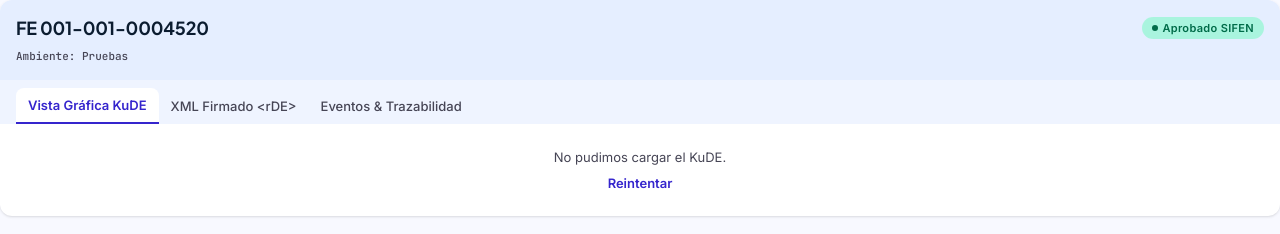
DocumentsDetail tabs › reports a KuDE that could not be loaded and retries
Expected: the text "No pudimos cargar el KuDE." is shown, [554,148,726,166]
Click the button "Reintentar": (640, 183) [608,174,672,192]
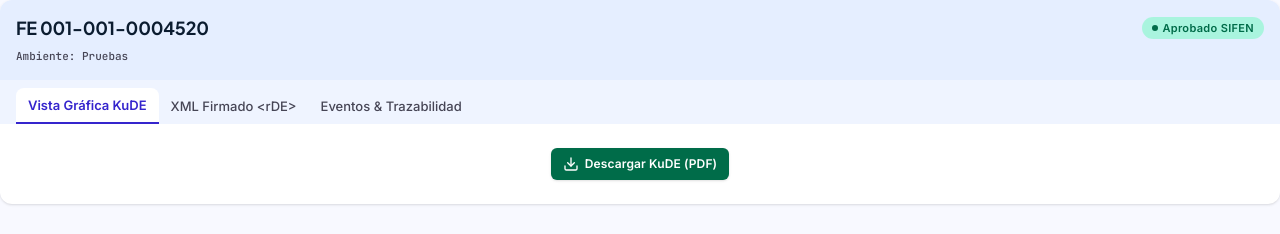
Expected: the link "Descargar KuDE (PDF)" is shown, [551,148,729,180]
